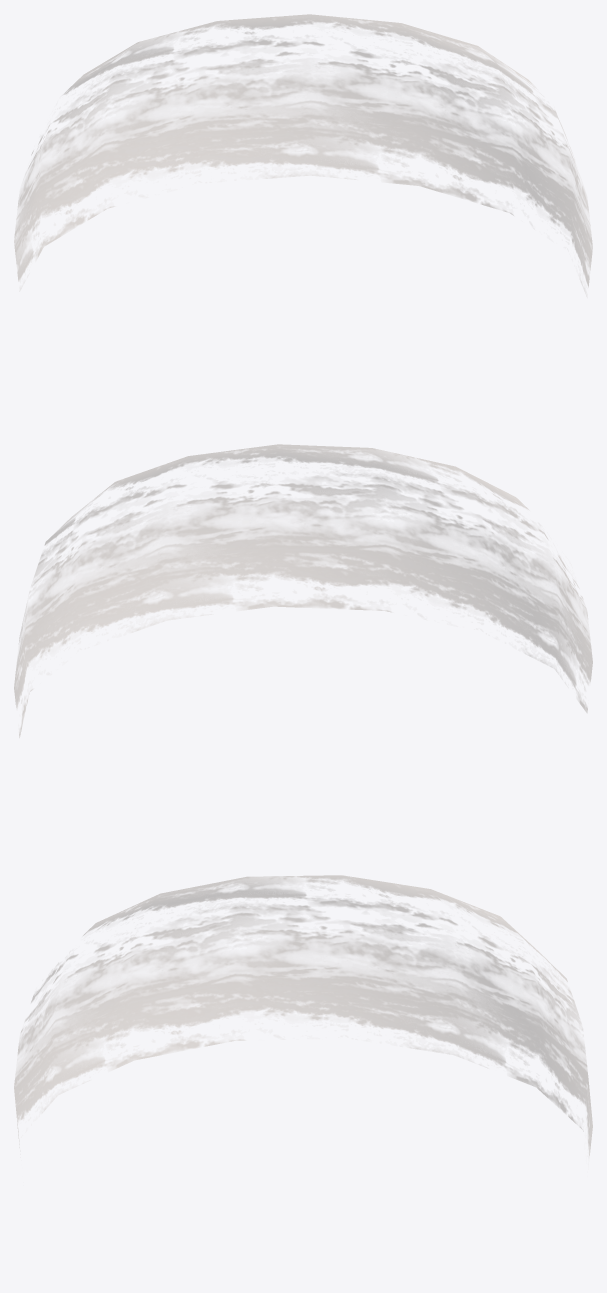
The model's file is Clouds.glb.
3 renders of one model, top to bottom at view 1: azimuth 30°, elevation 25°; view 2: azimuth 150°, elevation 25°; view 3: azimuth 270°, elevation 25°, orthographic.
Parts seen in each view (by area): view 1: dynamic_clouds.png__; view 2: dynamic_clouds.png__; view 3: dynamic_clouds.png__.
Boxes of the visible parts, bbox=[...] form: dynamic_clouds.png__: bbox=[14, 14, 592, 286]; dynamic_clouds.png__: bbox=[14, 444, 592, 737]; dynamic_clouds.png__: bbox=[14, 875, 592, 1155].
Bounding box in the file's own units: 721 × 301 × 721.
Materials: 1 (1 with a texture image).
